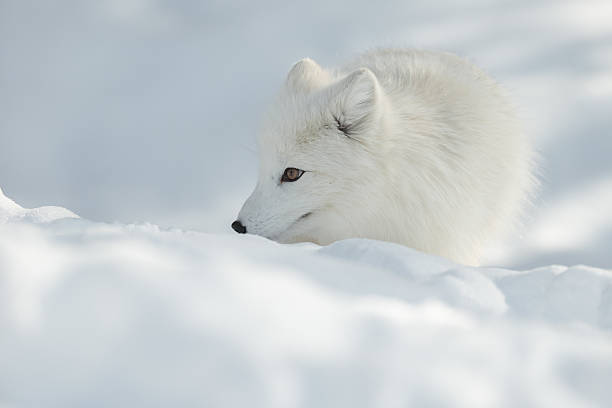arcticfox: (213, 85, 407, 291)
